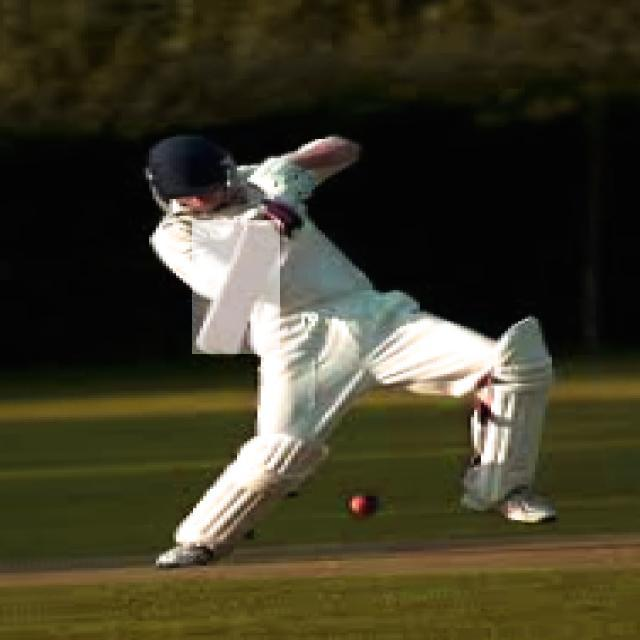bat: (193, 219, 281, 353)
toe: (191, 343, 232, 355)
